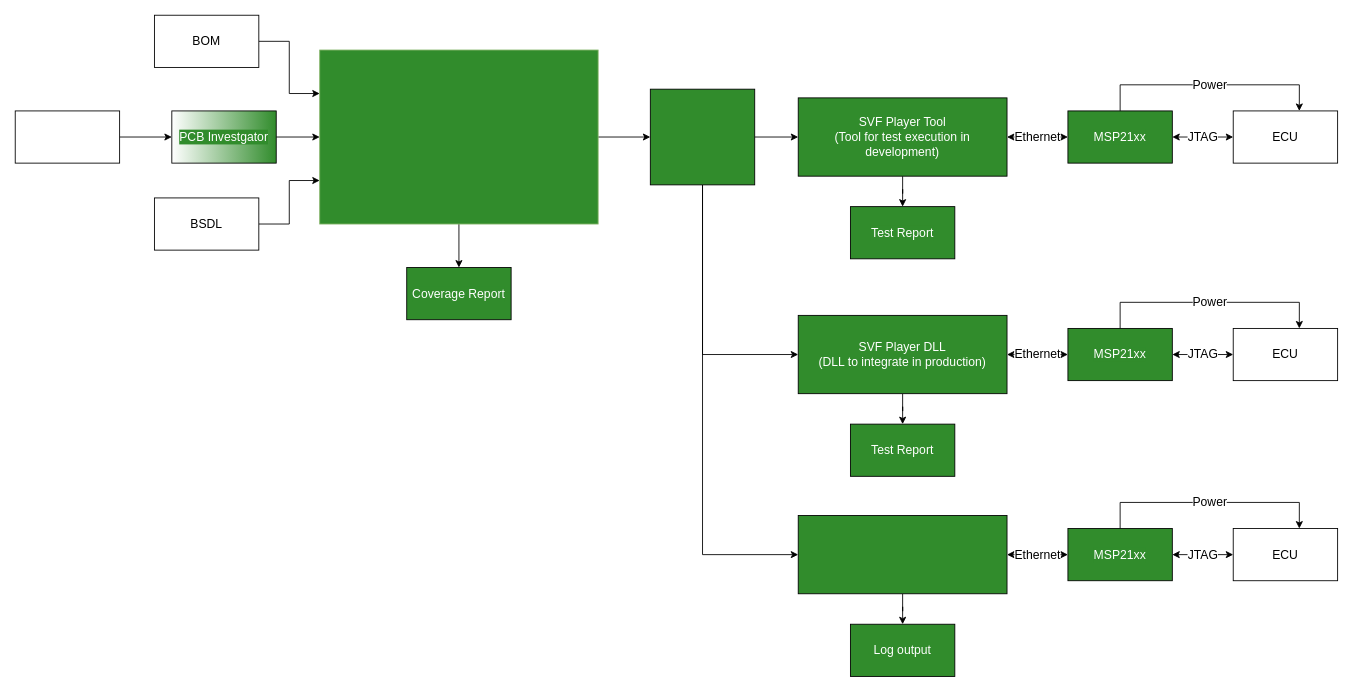
The diagram is 1353 pixels wide and 692 high, and some of its shapes have lost their labels. Each missing label, with the centre of its shape:
"FlashTask_Pro (Part of the process flow)" goes at [902,554].
"Layout - ODB++" goes at [67,136].
"ProMik Boundary Scan Project File Provided to customer" goes at [702,136].
"SMART ICT Analyser" goes at [458,136].
